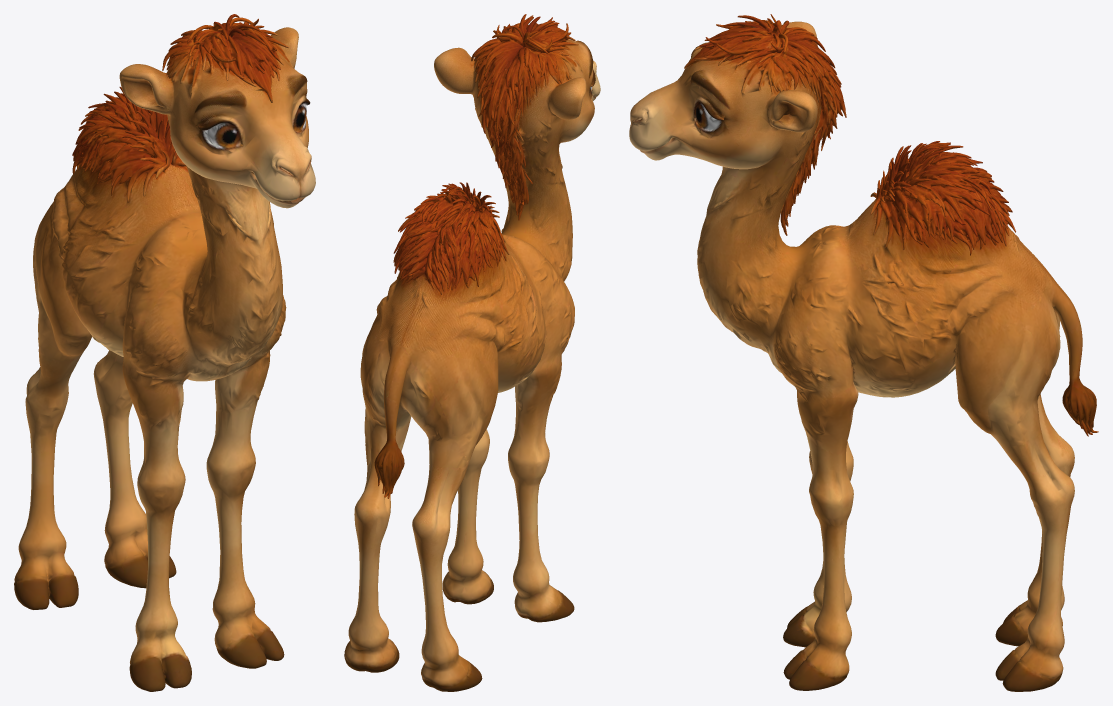
The model's file is camel-hq.glb.
The picture shows the model from 3 angles, left to right: view 1: azimuth 30°, elevation 25°; view 2: azimuth 150°, elevation 25°; view 3: azimuth 270°, elevation 25°; orthographic projection. The views are drawn at different scales.
Size of the model in its own units: 0.5241 by 1.9 by 1.27.
Materials: 1 (1 with a texture image).
